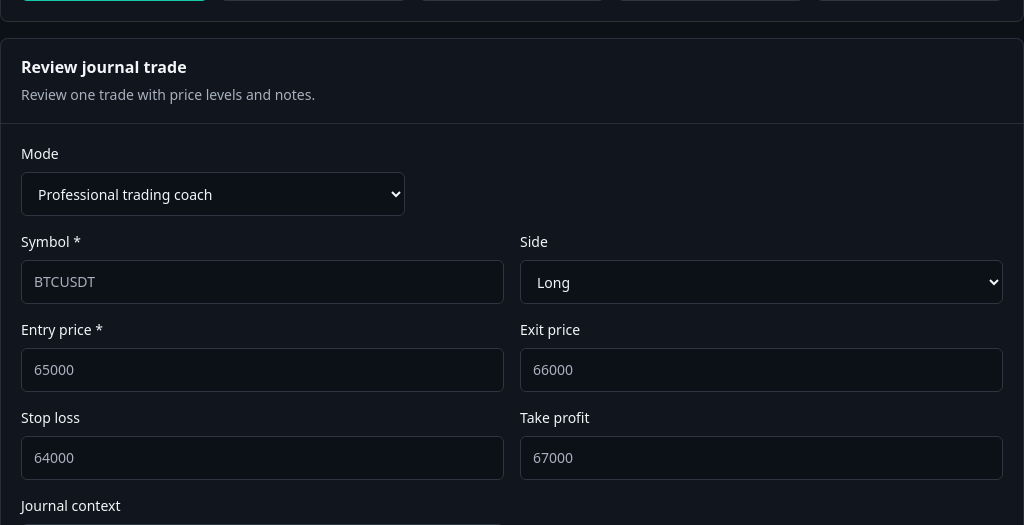
AiAssistantScreen language › keeps the English headings on an English screen
(page scrolled)
In the field named "symbol": {"x": 262, "y": 282} [21, 260, 504, 304], type "EURUSD"
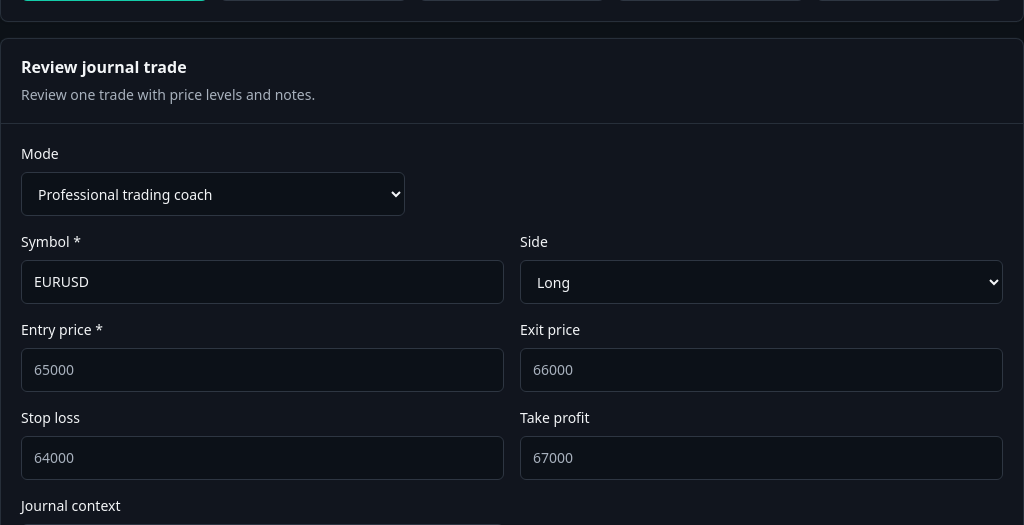
In the field named "entryPrice": {"x": 262, "y": 370} [21, 348, 504, 392], type "1.1"
(page scrolled)
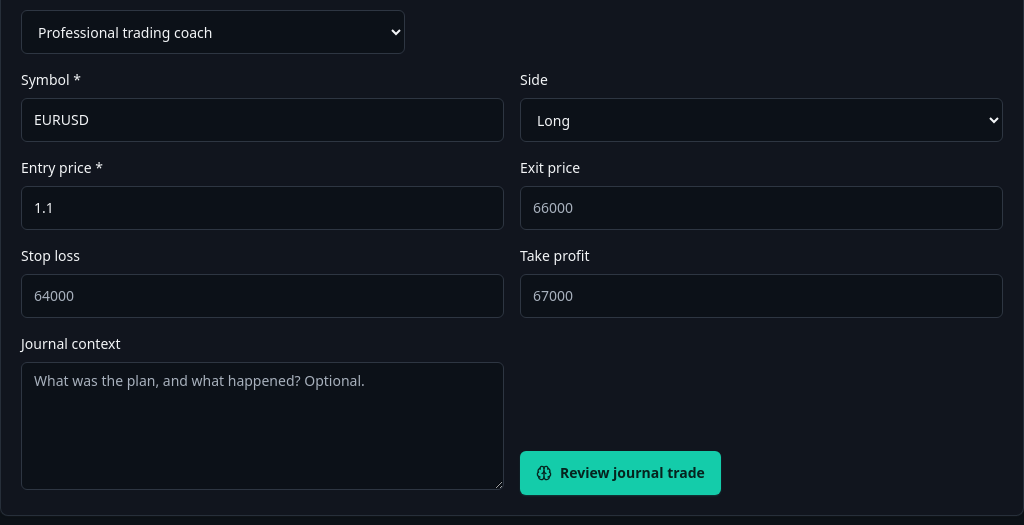
Submit the form
(page scrolled)
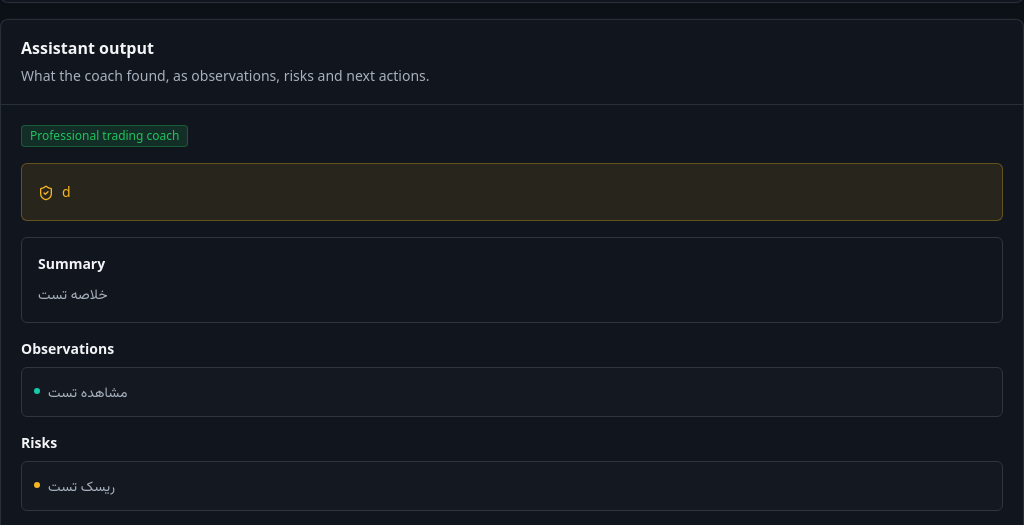
Expected: the text "Summary" is shown, [38, 254, 105, 273]
Result: the text "خلاصه تست" is shown at [38, 284, 108, 303]
